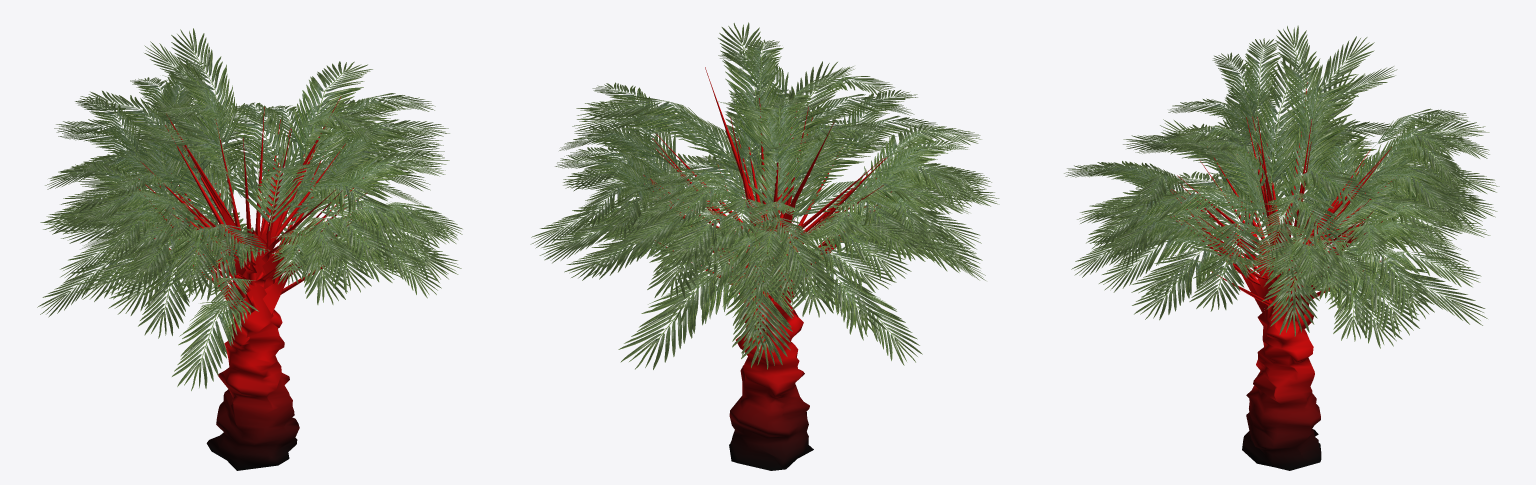
File: Palm_3_10.fbx
3 views of the same model, side by side, from view 1: azimuth 30°, elevation 25°; view 2: azimuth 150°, elevation 25°; view 3: azimuth 270°, elevation 25° (orthographic). The views are drawn at different scales.
Visible parts, largest first — view 1: Palm_3_10; view 2: Palm_3_10; view 3: Palm_3_10.
Part boxes in pixels (x1,y1,x2,y2): Palm_3_10: (37, 28, 462, 470); Palm_3_10: (530, 22, 999, 470); Palm_3_10: (1064, 25, 1499, 470).
Bounding box in the file's own units: 4399 × 4019 × 4455.
